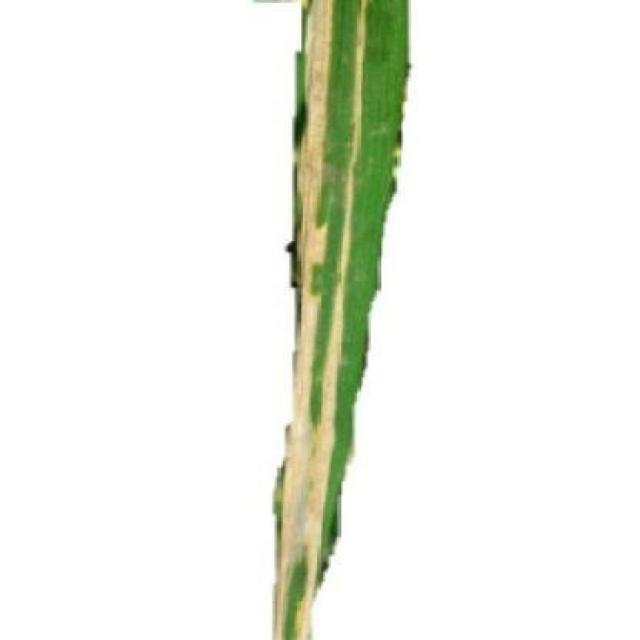Brown_Spot: (268, 0, 414, 640)
